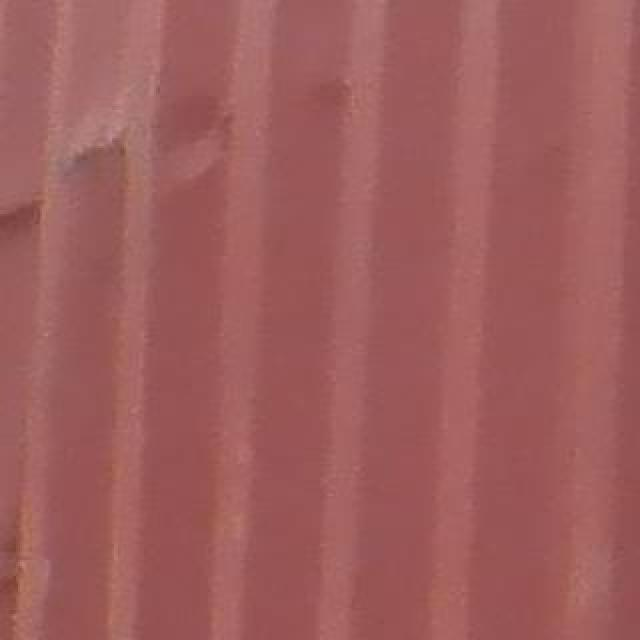dent: (1, 79, 249, 241)
